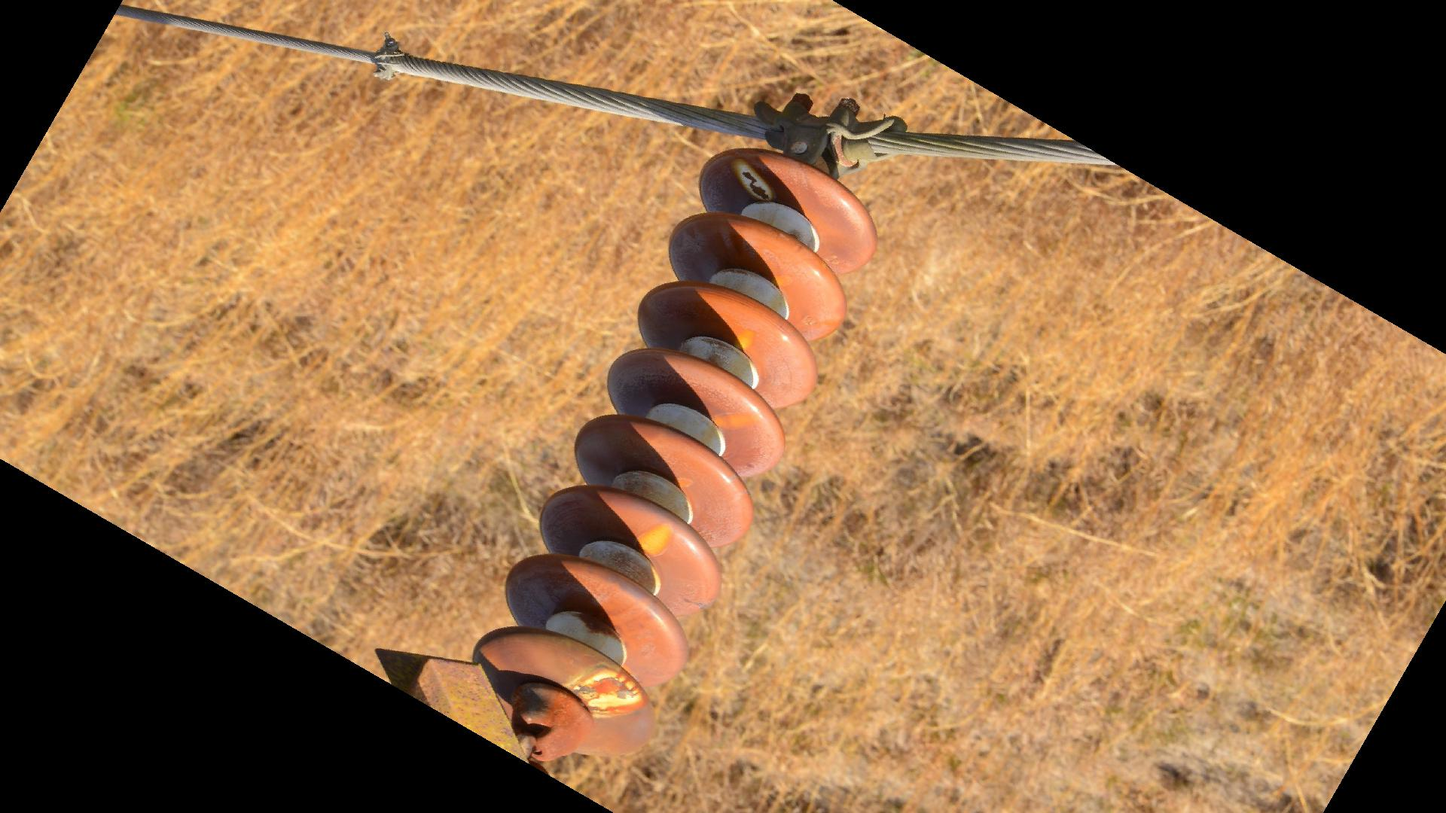insulator: (467, 139, 883, 762)
insulator_flashover: (568, 659, 648, 721), (731, 155, 777, 202), (632, 518, 675, 559), (710, 409, 765, 431), (734, 326, 757, 352)
